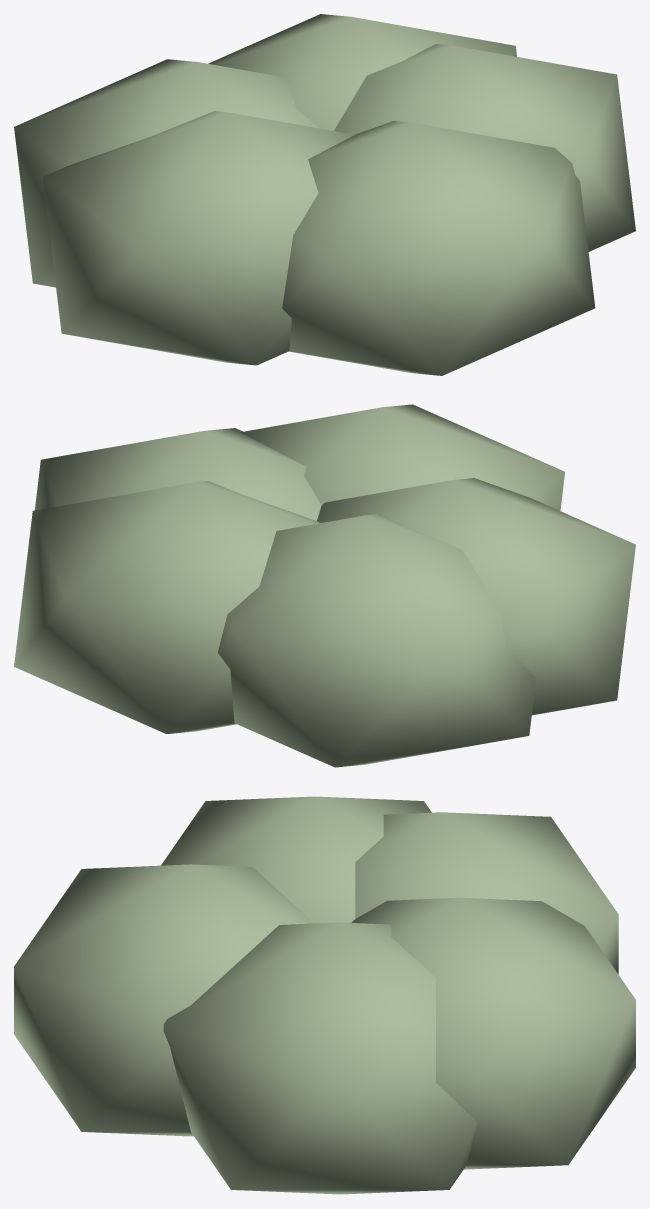
The model's file is foliage_shrub_round.glb.
3 views of the same model, one above another, from view 1: azimuth 30°, elevation 25°; view 2: azimuth 150°, elevation 25°; view 3: azimuth 270°, elevation 25° (orthographic). The views are drawn at different scales.
Parts seen in each view (by area): view 1: scenery_leaf; view 2: scenery_leaf; view 3: scenery_leaf.
Boxes of the visible parts, left/top/right/bottom form: scenery_leaf: left=14, top=14, right=635, bottom=375; scenery_leaf: left=14, top=404, right=635, bottom=767; scenery_leaf: left=14, top=796, right=635, bottom=1194.
Size of the model in its own units: 3.08 by 1.3 by 2.69.
